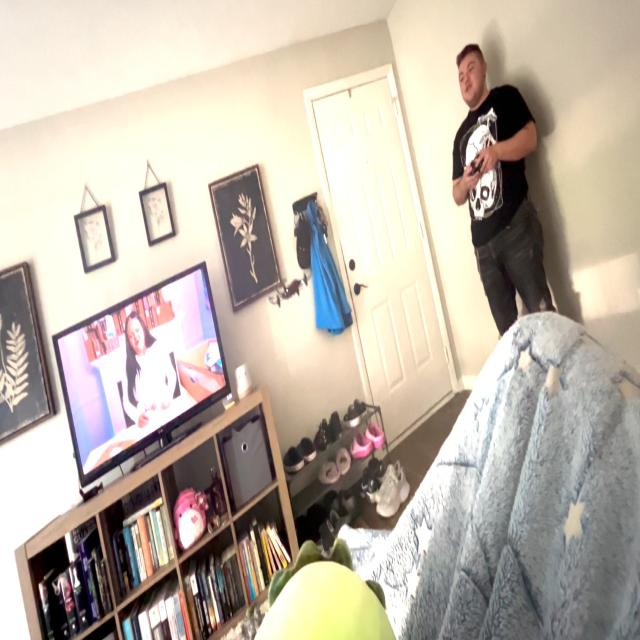drone: (249, 265, 322, 318)
